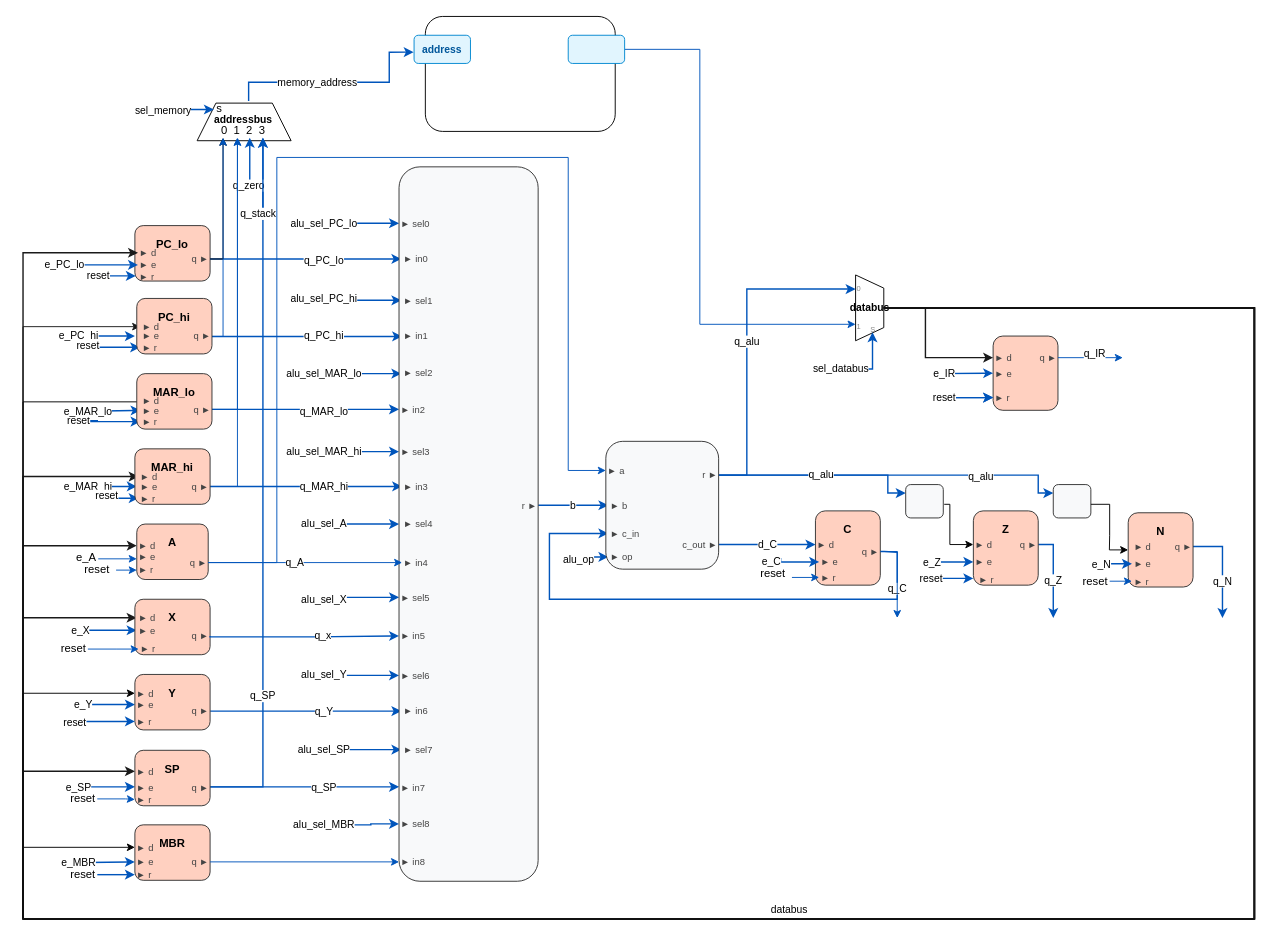
Image size: 1279x944. Some labels were removed from this diagram. The box of each missing label's shape, as (x1, y1, x2, y2) in pixels:
alu: (605, 440, 719, 569)
d_N: (1052, 484, 1091, 518)
d_Z: (905, 484, 943, 518)
IR: (992, 335, 1058, 410)
Memory: (424, 16, 615, 131)
read_data: (567, 34, 625, 63)
select_b: (398, 166, 538, 881)
